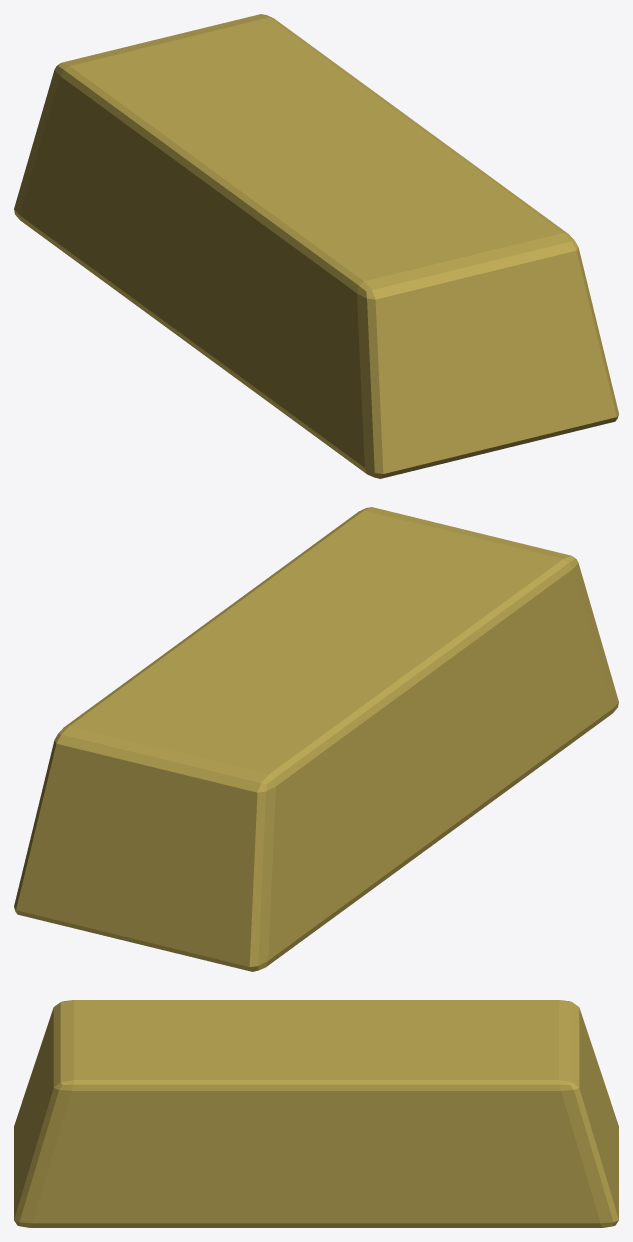
File: gold_ingot_single.glb
The picture shows the model from 3 angles, top to bottom: view 1: azimuth 30°, elevation 25°; view 2: azimuth 150°, elevation 25°; view 3: azimuth 270°, elevation 25°; orthographic projection. The views are drawn at different scales.
Parts seen in each view (by area): view 1: Gold_Ingots; view 2: Gold_Ingots; view 3: Gold_Ingots.
Part boxes in pixels (left/top/right/bottom): Gold_Ingots: left=14, top=14, right=618, bottom=478; Gold_Ingots: left=14, top=507, right=618, bottom=971; Gold_Ingots: left=14, top=1000, right=618, bottom=1227.
Size of the model in its own units: 0.2346 by 0.1538 by 0.6002.
